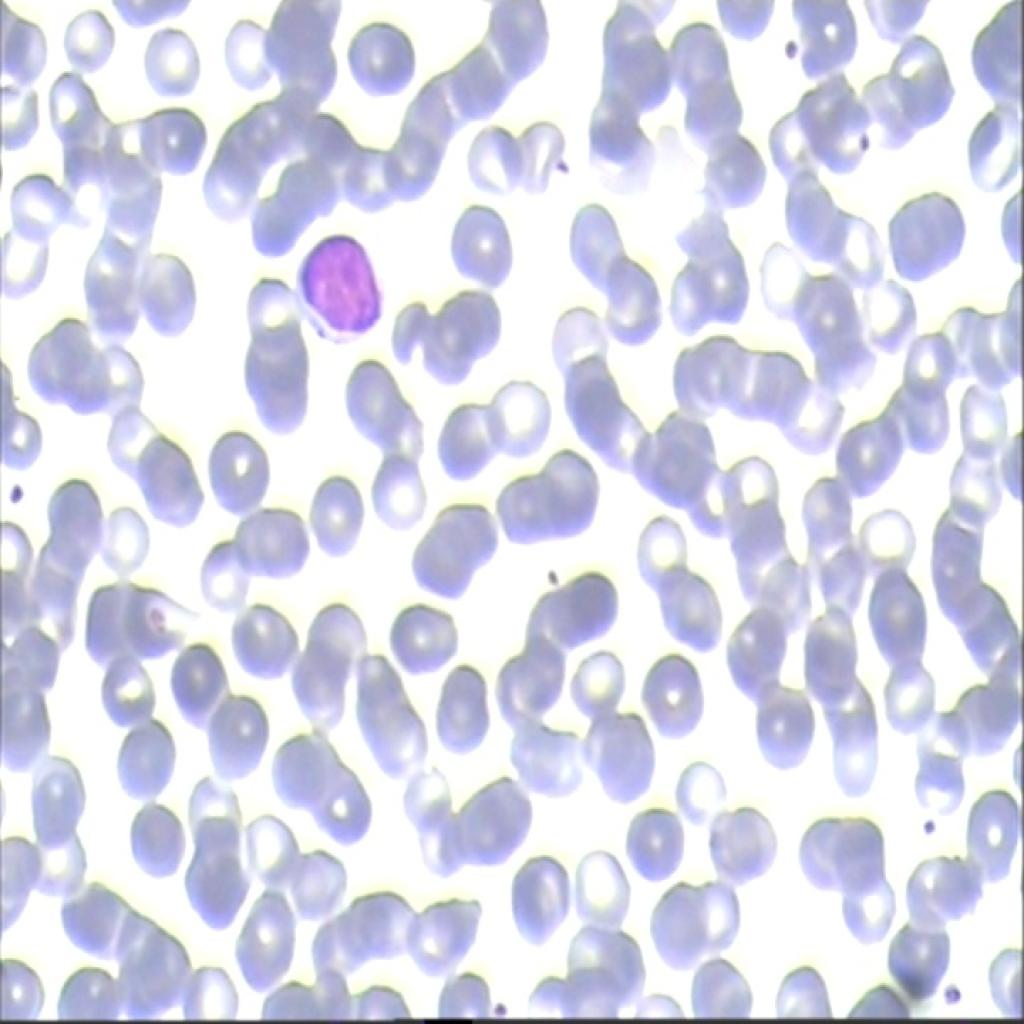Limfosit: (292, 212, 396, 354)
Platelet: (538, 550, 572, 606), (938, 972, 972, 1017), (843, 117, 876, 160), (2, 466, 32, 512), (772, 30, 802, 71), (906, 807, 943, 836), (489, 996, 515, 1022), (549, 153, 575, 179)
